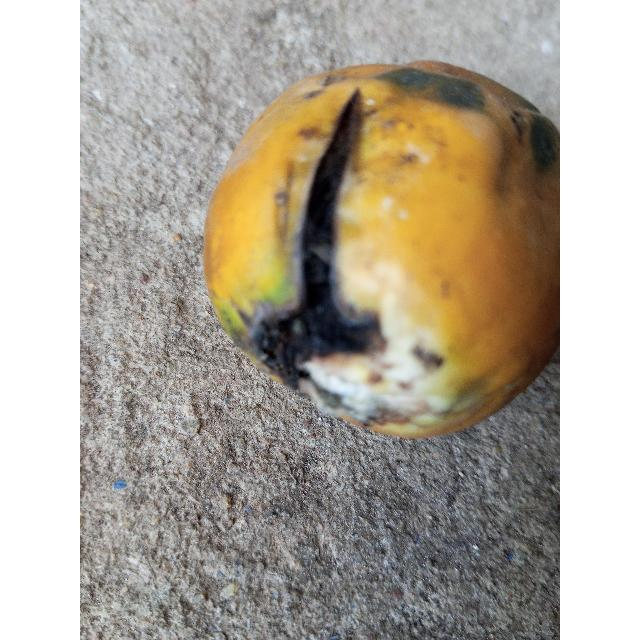damaged: (204, 63, 558, 437)
